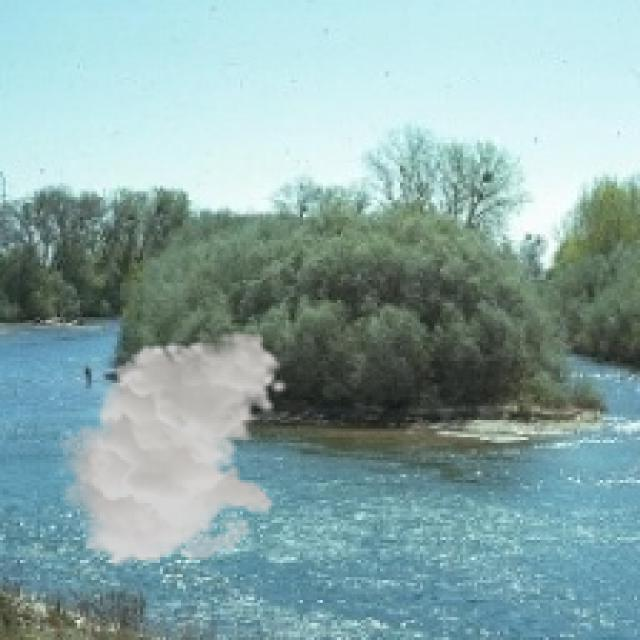Smoke: (52, 332, 288, 568)
